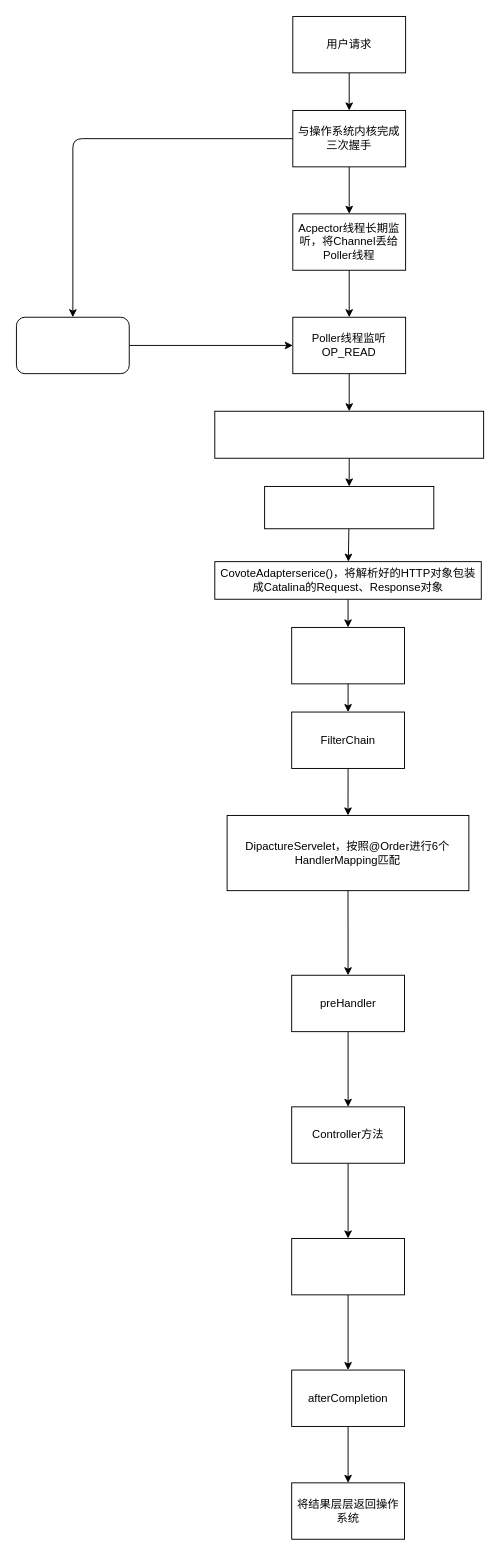
Some shapes in this 500 by 1556 pixel diagram are drawn without their labels. The shapes that lost their labels are listed below. From the top down, each one's centre as x and y in pixels, then its label:
At pixel 72 345: "数据包到达， OP_READ就绪".
At pixel 349 434: "丢给VirtualThreadPerTaskExcutor，会欺骗TaskQueue，让他们认为队列一直满了，从而返回新的VT。如果阻塞，unmount。".
At pixel 349 507: "Http11Procesor.service()进行Http解析".
At pixel 347 655: "Catalina依次设置host、context、wrapper".
At pixel 347 1266: "postHandler".
